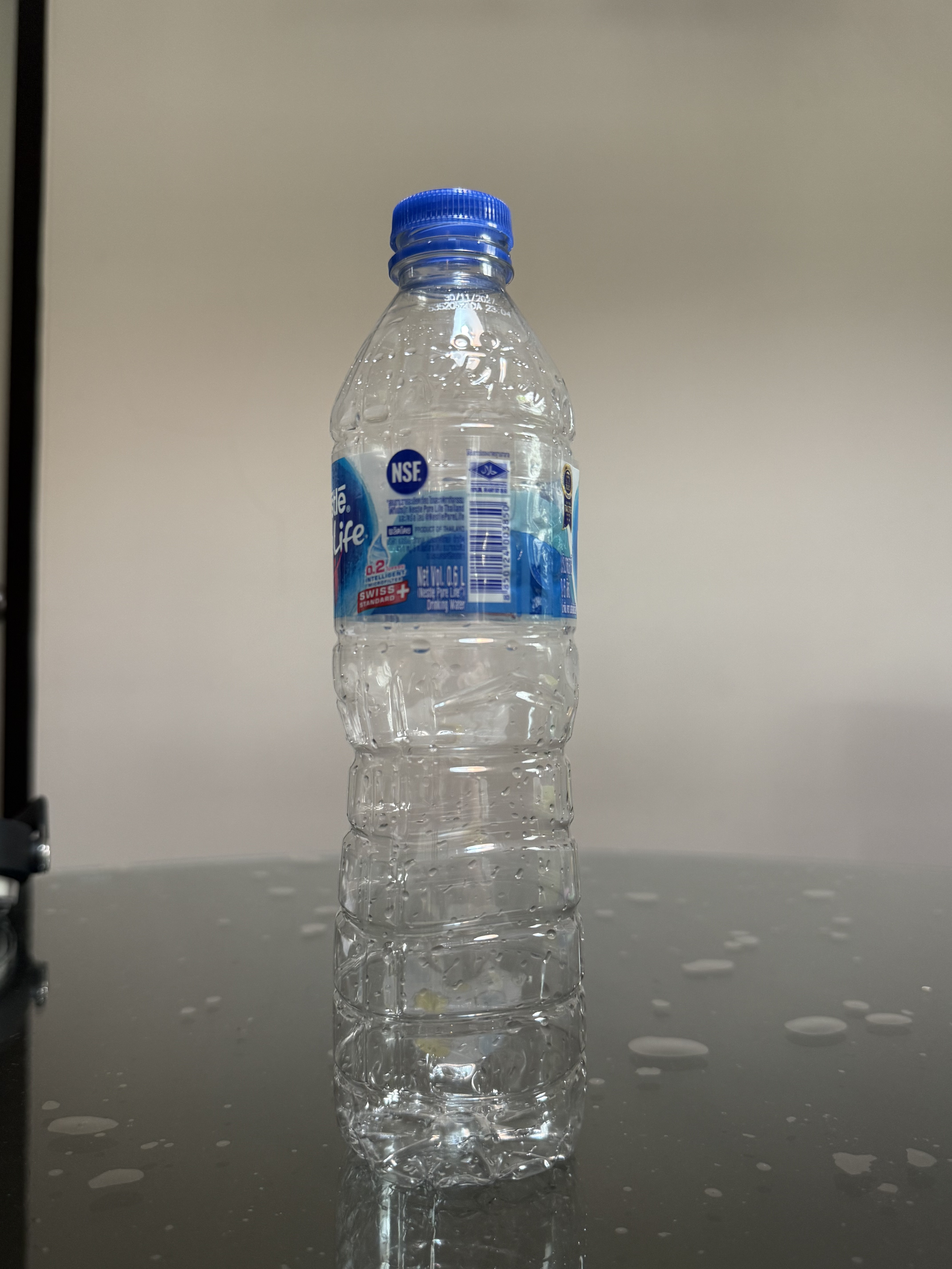half_cap: (385, 184, 516, 287)
